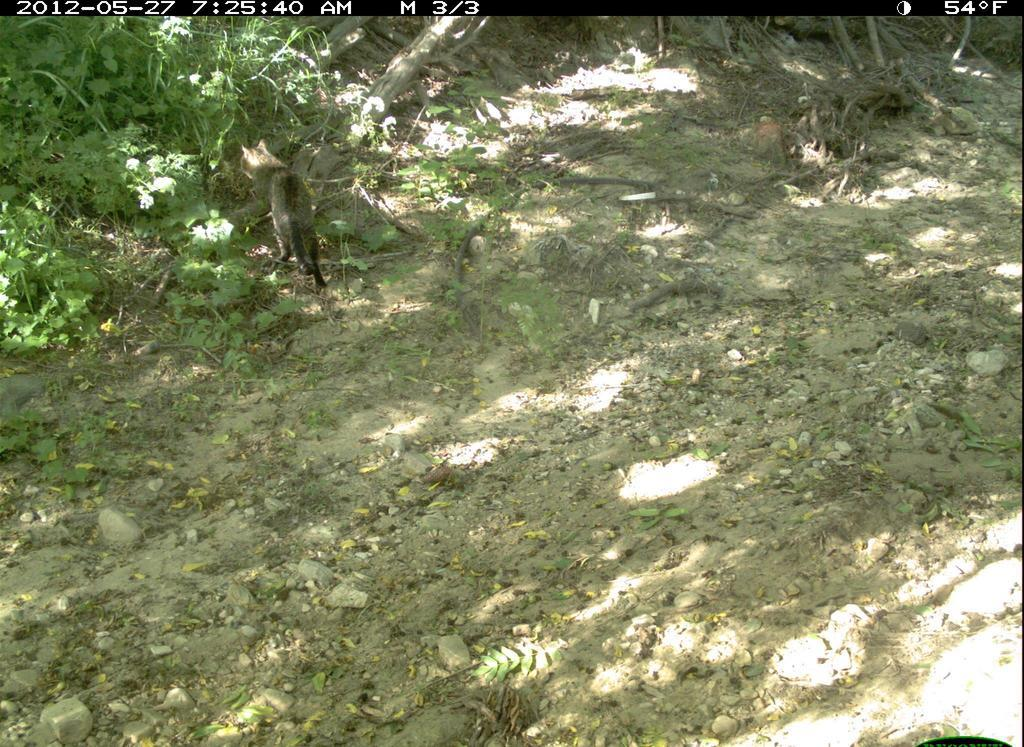cat: (223, 140, 346, 299)
